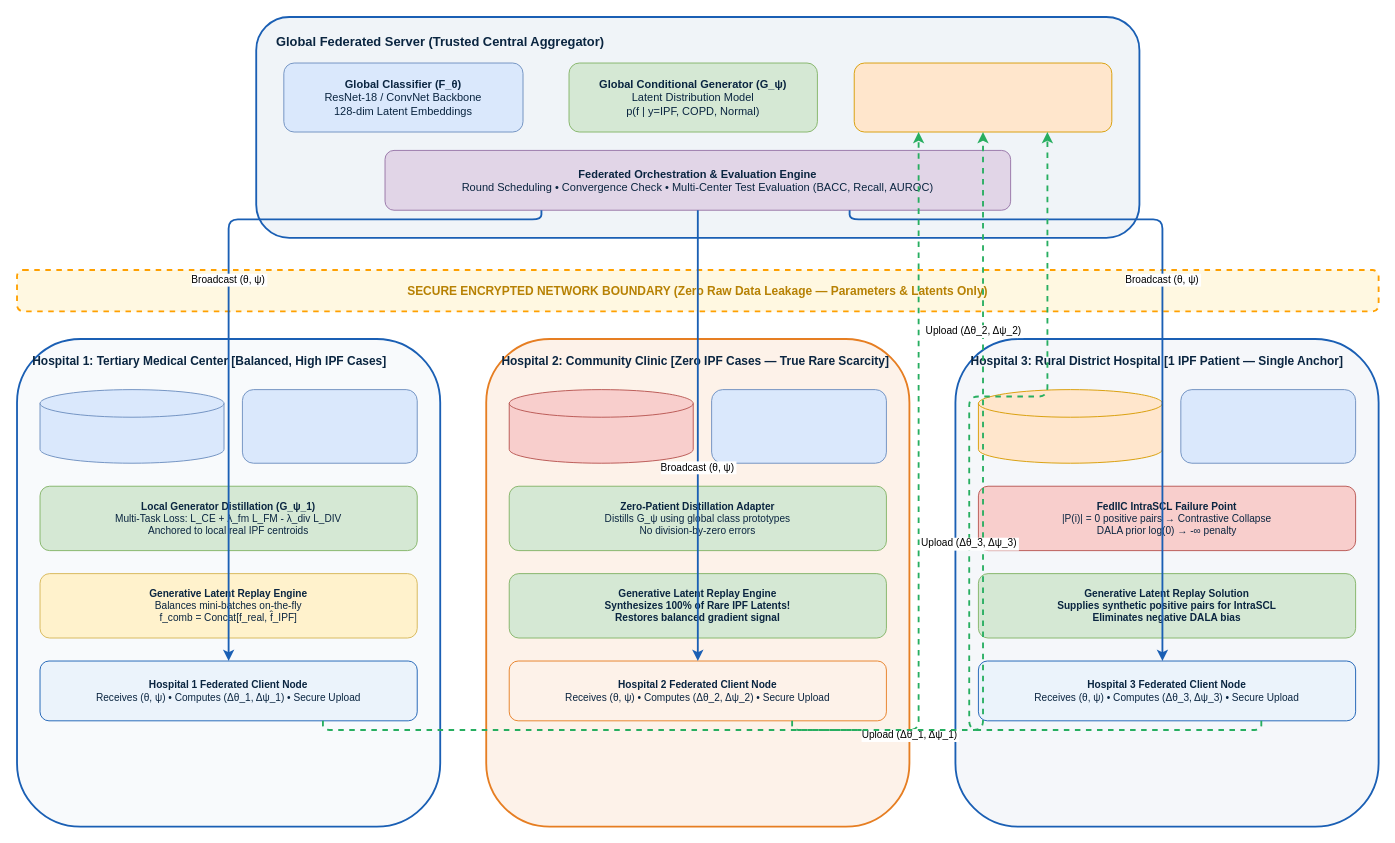
Some shapes in this 1395 by 843 pixel diagram are drawn without their labels. The centre of each missing label's shape, as x and y in pixels:
"Federated Parameter Aggregator θ_glob = Σ (n_k/N) θ_k ψ_glob = Σ (n_k/N) ψ_k" belongs at point (982, 97).
"Local Classifier (F_θ_1) Extracts 128-d features Computes Real Centroids" belongs at point (329, 426).
"Local Classifier (F_θ_2) No Real IPF Training Scans Prone to class collapse" belongs at point (798, 426).
"Local Classifier (F_θ_3) Single IPF anchor instance IntraSCL cannot form pairs" belongs at point (1268, 426).
"Private HRCT Dataset 0 IPF | 21 COPD | 150 Norm GE LightSpeed Scanner" belongs at point (600, 426).
"Private HRCT Dataset 1 IPF | 142 COPD | 80 Norm Philips Ingenuity Scanner" belongs at point (1070, 426).
"Private HRCT Dataset 33 IPF | 72 COPD | 296 Norm Siemens Somatom Scanner" belongs at point (131, 426).
